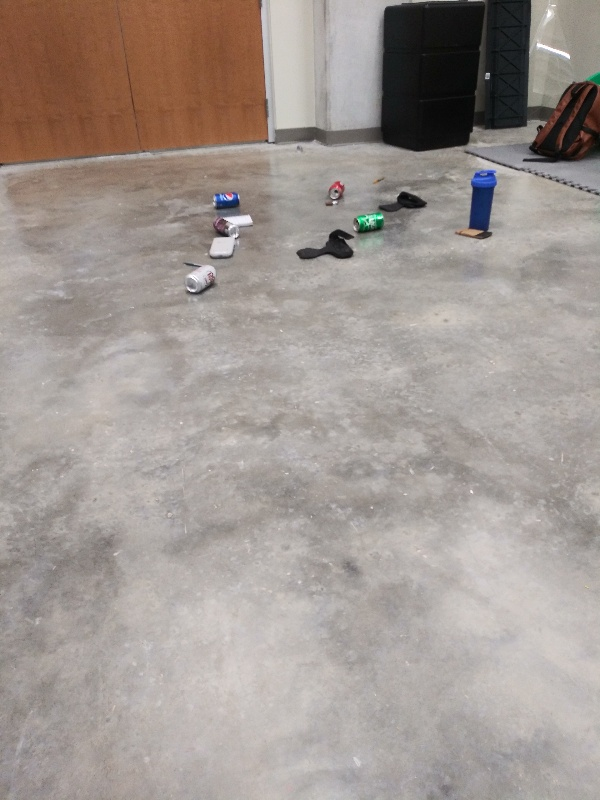can: (179, 263, 222, 297), (349, 211, 385, 234), (210, 214, 242, 239), (210, 190, 243, 211), (326, 177, 345, 202)
